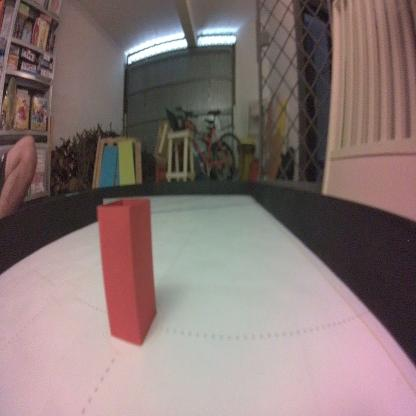red: (94, 196, 158, 345)
